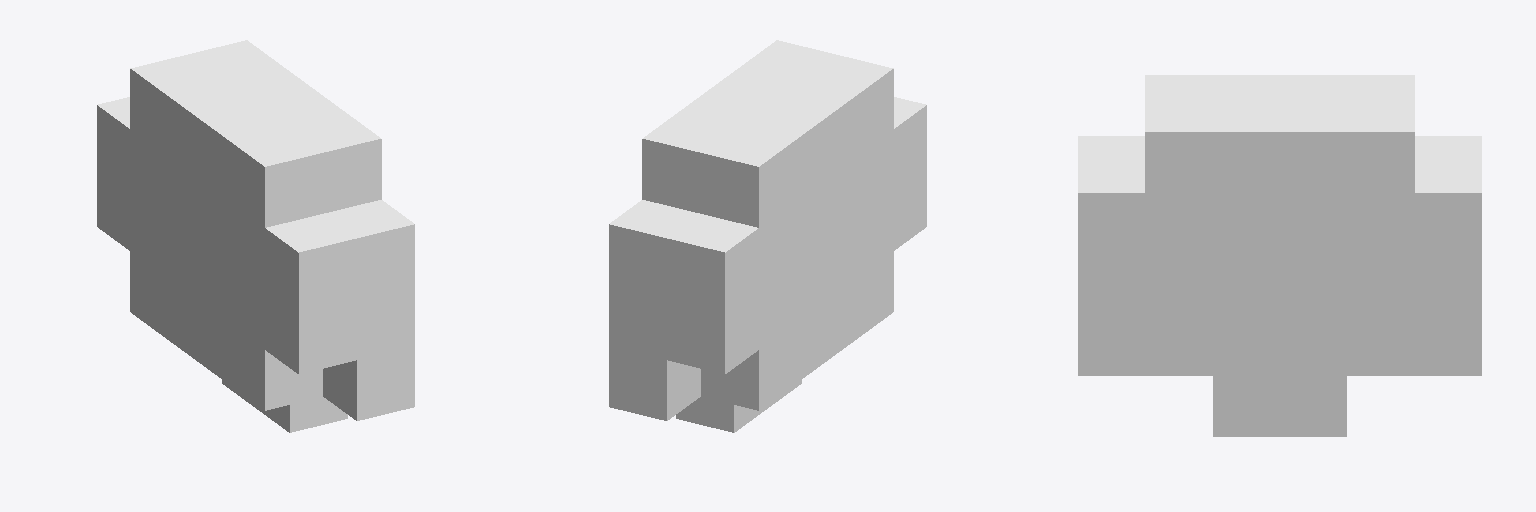
The model's file is S_WhalePartA.obj.
3 renders of one model, left to right at view 1: azimuth 30°, elevation 25°; view 2: azimuth 150°, elevation 25°; view 3: azimuth 270°, elevation 25°, orthographic.
Visible parts, largest first — view 1: object 1; view 2: object 1; view 3: object 1.
Part boxes in pixels (x1,y1,x2,y2): object 1: (97, 40, 414, 432); object 1: (609, 40, 926, 432); object 1: (1078, 75, 1481, 436).
Bounding box in the file's own units: 0.2 × 0.5 × 0.6.